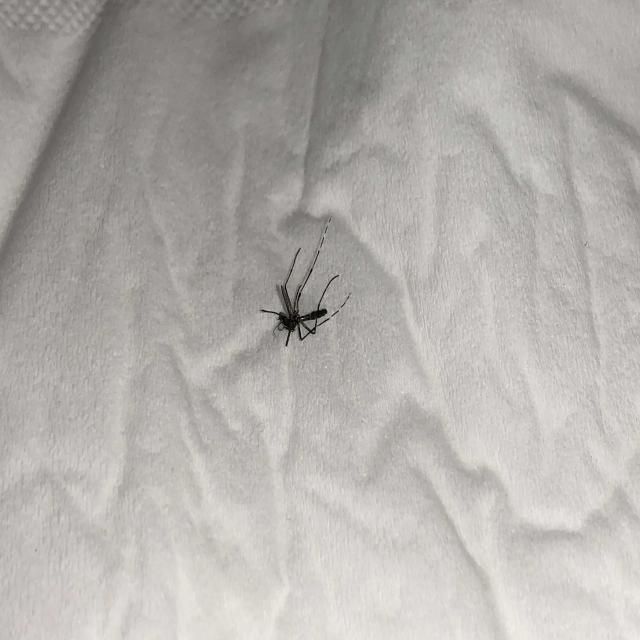albopictus: (255, 214, 352, 351)
